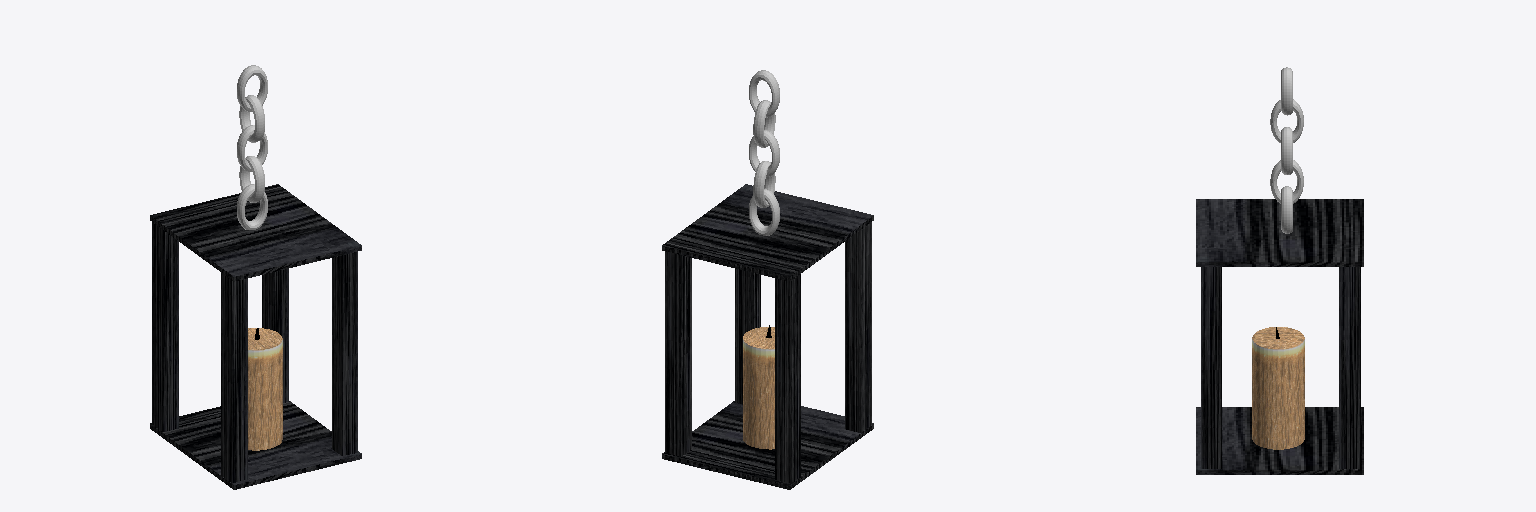
3 renders of one model, left to right at view 1: azimuth 30°, elevation 25°; view 2: azimuth 150°, elevation 25°; view 3: azimuth 270°, elevation 25°, orthographic.
Visible parts, largest first — view 1: Cube.006, Cube.005_Cube.008, Cube.003, Cube.002, Cube.004, Cylinder, Cube.001, Torus, Torus.004, Torus.003, Torus.001, Torus.002; view 2: Cube.006, Cube.005_Cube.008, Cube.001, Cube.003, Cube.002, Cylinder, Cube.004, Torus, Torus.004, Torus.003, Torus.001, Torus.002; view 3: Cube.006, Cube.005_Cube.008, Cylinder, Cube.001, Cube.004, Torus.001, Torus.003, Torus.002, Torus.004, Torus.
Boxes of the visible parts, box(x1,y1,x2,y2) form: Cube.006: box(150, 184, 361, 281); Cube.005_Cube.008: box(150, 401, 361, 489); Cube.003: box(221, 273, 247, 482); Cube.002: box(152, 222, 178, 431); Cube.004: box(332, 252, 357, 455); Cylinder: box(248, 328, 282, 450); Cube.001: box(262, 269, 288, 402); Torus: box(237, 184, 267, 229); Torus.004: box(237, 65, 267, 111); Torus.003: box(239, 95, 264, 142); Torus.001: box(239, 156, 264, 202); Torus.002: box(237, 125, 267, 171); Cube.006: box(662, 184, 873, 281); Cube.005_Cube.008: box(662, 401, 873, 489); Cube.001: box(665, 251, 691, 456); Cube.003: box(845, 222, 871, 432); Cube.002: box(775, 274, 800, 483); Cylinder: box(743, 327, 774, 449); Cube.004: box(735, 269, 760, 403); Torus: box(749, 189, 779, 235); Torus.004: box(749, 70, 779, 117); Torus.003: box(753, 100, 775, 147); Torus.001: box(753, 161, 775, 207); Torus.002: box(749, 130, 779, 176); Cube.006: box(1196, 199, 1363, 266); Cube.005_Cube.008: box(1196, 407, 1363, 474); Cylinder: box(1252, 327, 1304, 449); Cube.001: box(1339, 267, 1360, 468); Cube.004: box(1201, 267, 1221, 468); Torus.001: box(1270, 160, 1303, 203); Torus.003: box(1270, 99, 1303, 142); Torus.002: box(1281, 127, 1292, 174); Torus.004: box(1281, 67, 1292, 115); Torus: box(1281, 186, 1292, 233).
Size of the model in its own units: 0.1634 by 0.4569 by 0.1859.
13 materials, 2 textured.